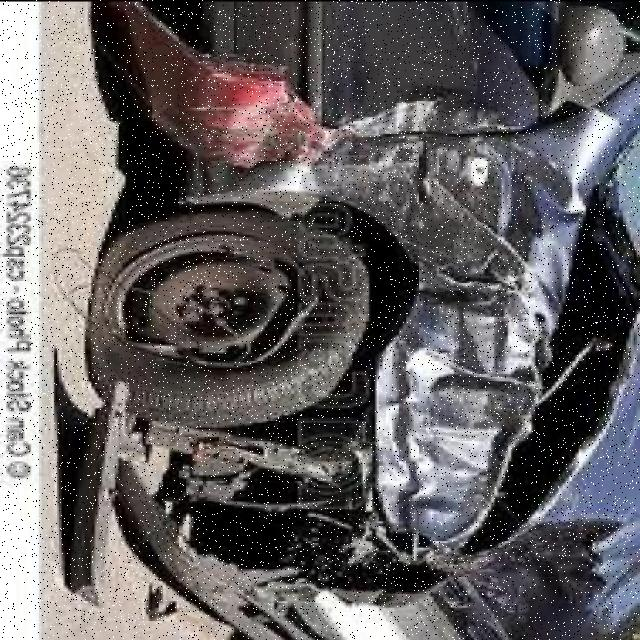damage: (70, 0, 640, 639)
